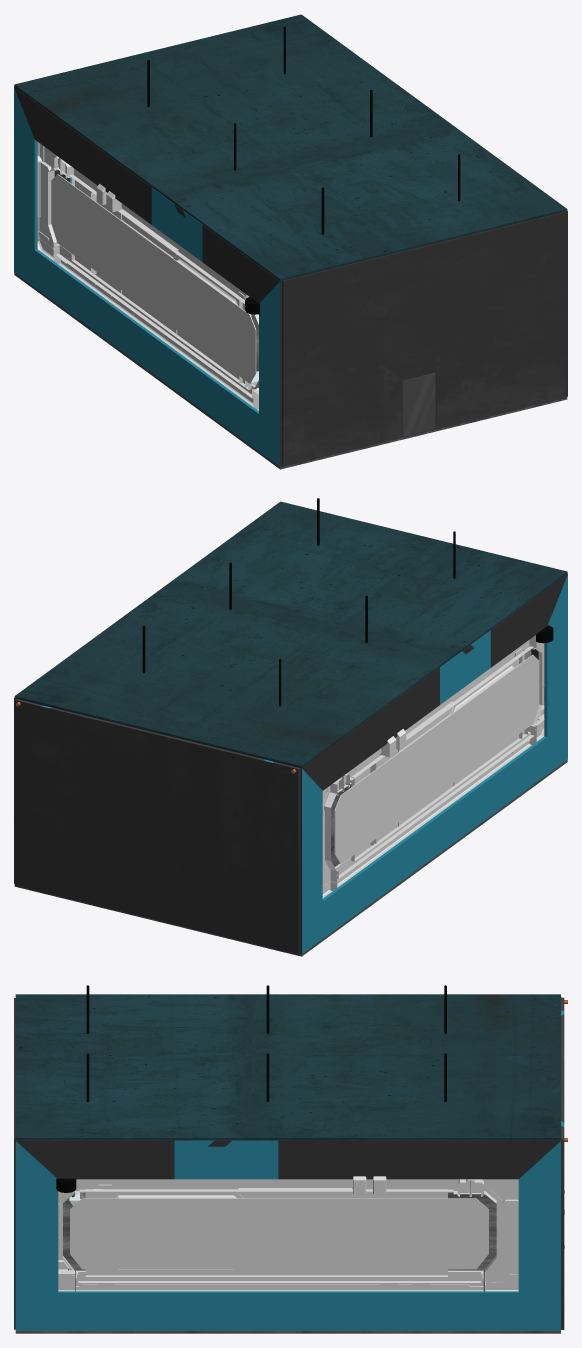
File: Oficinas.fbx
3 renders of one model, top to bottom at view 1: azimuth 30°, elevation 25°; view 2: azimuth 150°, elevation 25°; view 3: azimuth 270°, elevation 25°, orthographic. The views are drawn at different scales.
Visible parts, largest first — view 1: Cube.104, Cube.043, Cube.044, VentanaSubstance.001, Cube.031, Cube.027, Cylinder.003; view 2: Cube.104, Cube.084, Cube.044, VentanaSubstance.001, Cube.027, Cylinder.003; view 3: Cube.104, Cube.036, VentanaSubstance.001, Cube.027, Cube.084, Cylinder.003, Cube.043.
Boxes of the visible parts, bbox=[...] form: Cube.104: bbox=[14, 14, 567, 281]; Cube.043: bbox=[282, 212, 565, 466]; Cube.044: bbox=[14, 87, 282, 466]; VentanaSubstance.001: bbox=[37, 142, 258, 410]; Cube.031: bbox=[403, 373, 435, 436]; Cube.027: bbox=[14, 273, 567, 469]; Cylinder.003: bbox=[147, 26, 460, 234]; Cube.104: bbox=[14, 501, 567, 768]; Cube.084: bbox=[14, 699, 300, 954]; Cube.044: bbox=[300, 574, 567, 953]; VentanaSubstance.001: bbox=[322, 635, 544, 898]; Cube.027: bbox=[14, 760, 567, 956]; Cylinder.003: bbox=[142, 498, 455, 706]; Cube.104: bbox=[15, 994, 560, 1140]; Cube.036: bbox=[15, 1140, 560, 1330]; VentanaSubstance.001: bbox=[58, 1176, 518, 1291]; Cube.027: bbox=[15, 1189, 560, 1333]; Cube.084: bbox=[561, 997, 564, 1329]; Cylinder.003: bbox=[86, 985, 446, 1101]; Cube.043: bbox=[14, 998, 15, 1329].
Size of the model in its own units: 984 by 730 by 1510.
